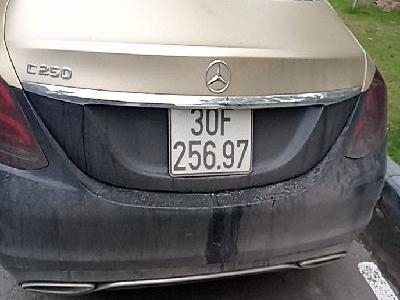car: (169, 105, 254, 175)
